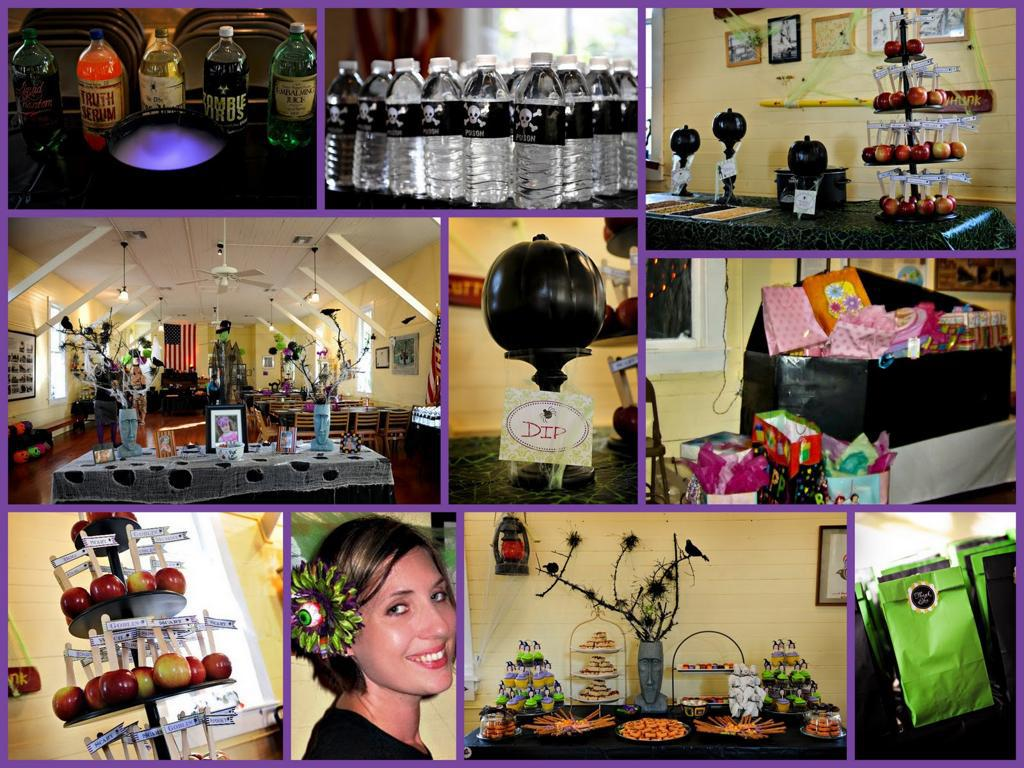face: (359, 547, 459, 695)
